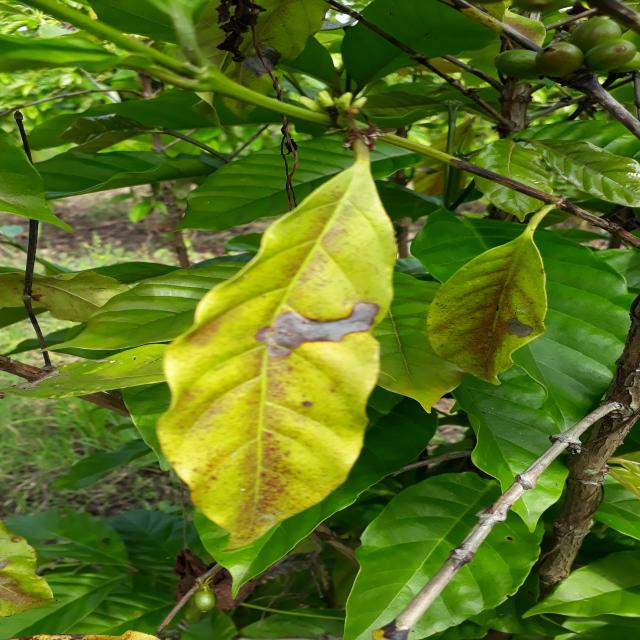Plaga-AranaRoja: (155, 142, 399, 556)
